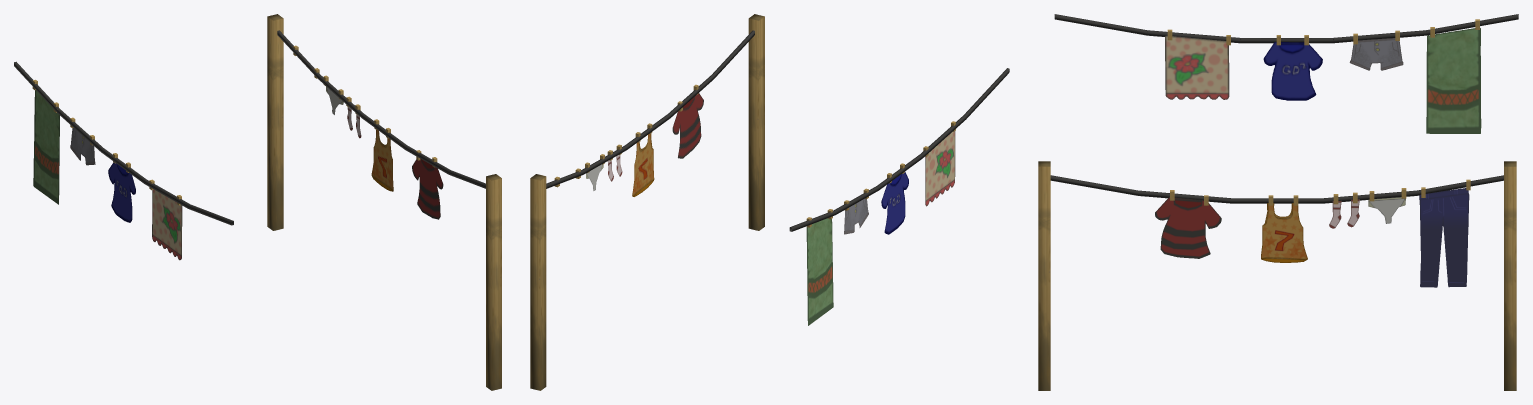
File: varal_mod.fbx
The picture shows the model from 3 angles, left to right: view 1: azimuth 30°, elevation 25°; view 2: azimuth 150°, elevation 25°; view 3: azimuth 270°, elevation 25°; orthographic projection. The views are drawn at different scales.
Visible parts, largest first — view 1: varal com suporte, varal avulso; view 2: varal com suporte, varal avulso; view 3: varal com suporte, varal avulso.
Part boxes in pixels (x1,y1,x2,y2): varal com suporte: (267, 14, 501, 390); varal avulso: (14, 61, 233, 260); varal com suporte: (530, 14, 764, 390); varal avulso: (789, 68, 1009, 325); varal com suporte: (1038, 161, 1516, 390); varal avulso: (1054, 14, 1518, 133).
Size of the model in its own units: 278 by 228 by 413.
